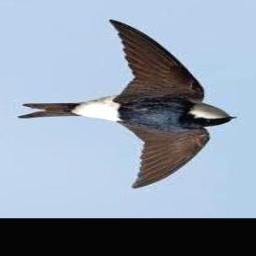Swallow: (17, 21, 238, 190)
